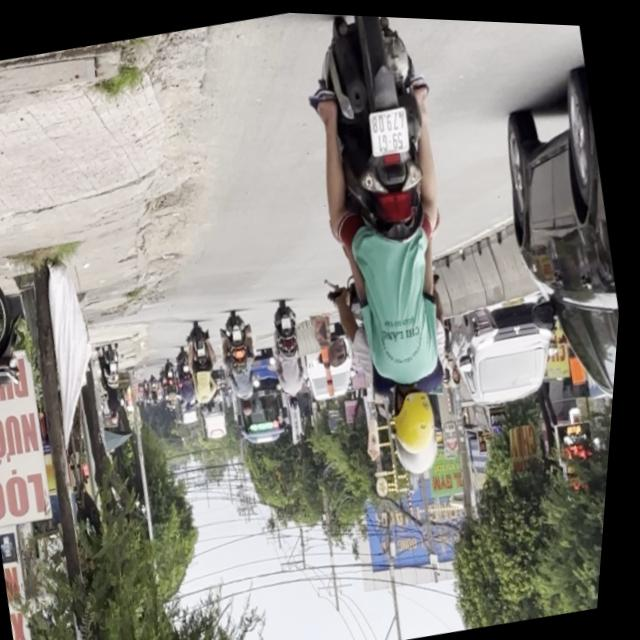helmet: (387, 370, 452, 455)
licenseplate: (263, 10, 517, 488)
nohelmet: (367, 102, 415, 154)
